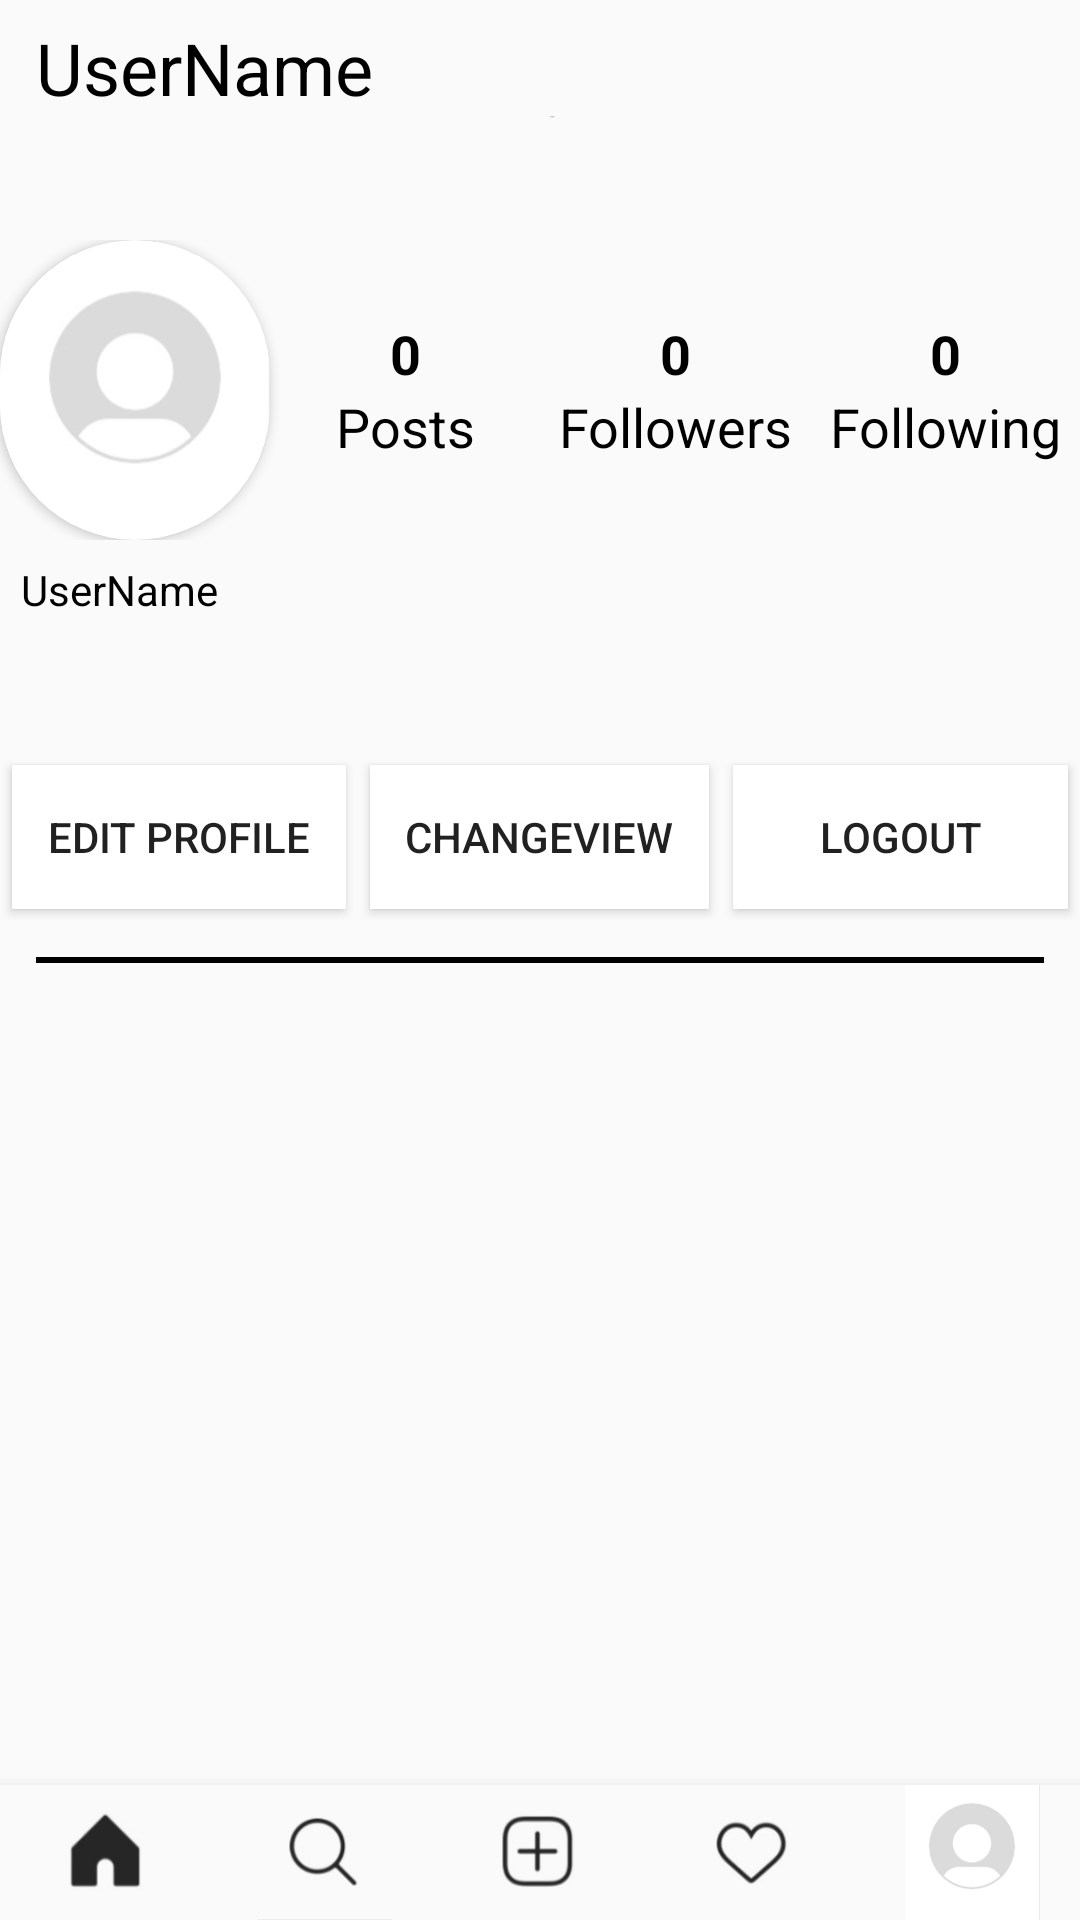

Locate icon controls on the screen. Image size 1080×1920, boxes as (x1, y1, x2, y2).
btm add: (502, 1816, 573, 1887)
btm home: (70, 1814, 140, 1887)
btm like: (716, 1822, 786, 1884)
btm search: (289, 1818, 357, 1886)
